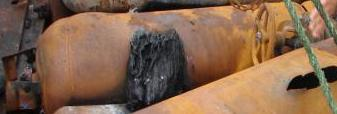cylinder: (1, 0, 337, 114)
